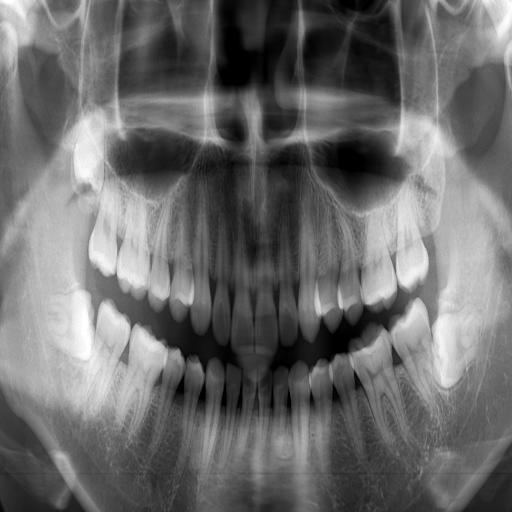Wisdom teeth: (434, 311, 475, 388), (48, 290, 93, 360), (74, 114, 103, 191)
